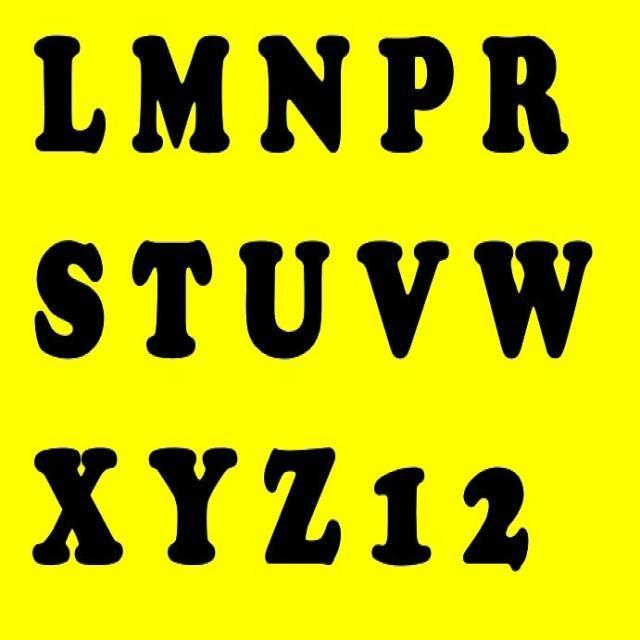1: (366, 436, 434, 578)
2: (462, 455, 538, 585)
M: (126, 24, 238, 166)
R: (477, 23, 576, 163)
V: (348, 227, 449, 376)
W: (467, 226, 596, 374)
X: (25, 428, 128, 578)
Y: (142, 428, 243, 576)
Z: (252, 428, 346, 578)
